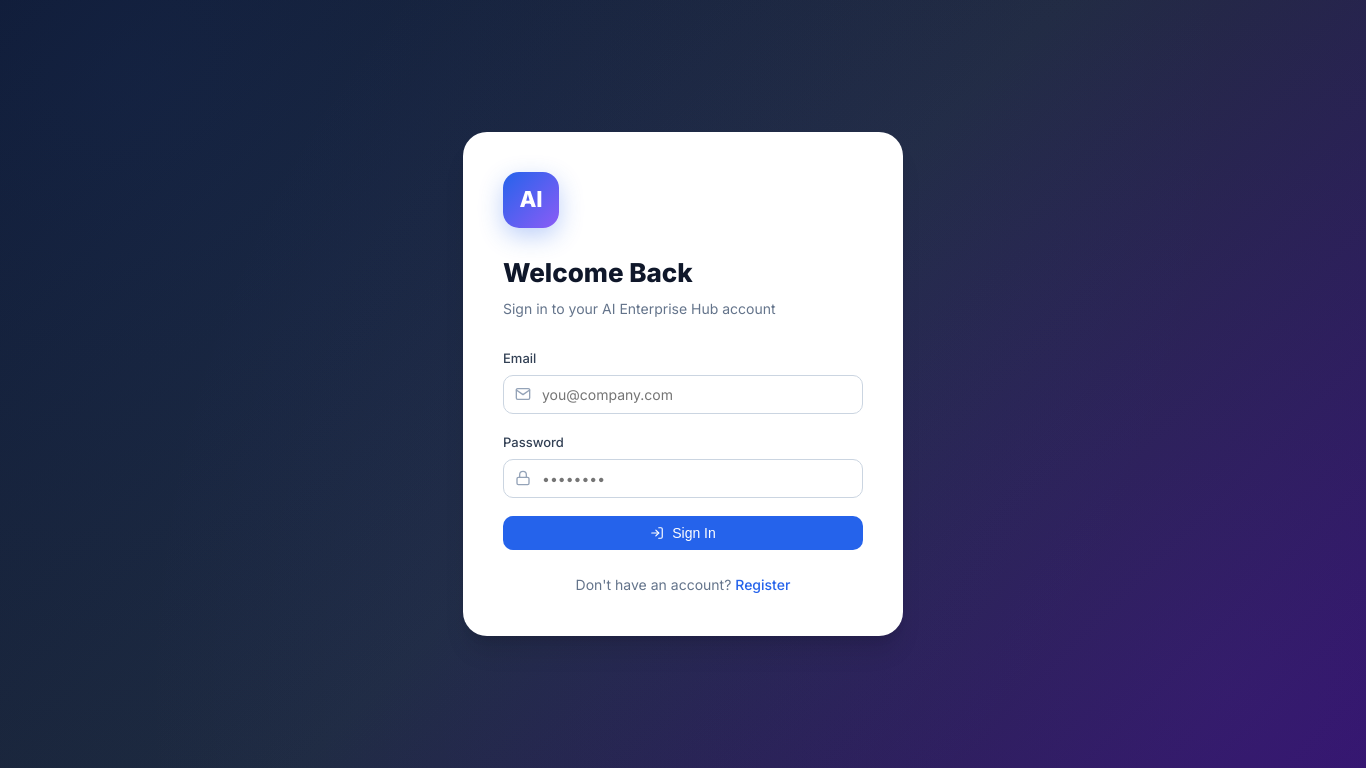
Test case: Authentication › should show validation errors for empty form
The width and height of the screenshot is (1366, 768).
Click the button "Sign In" at (683, 533), box [503,516,863,550]
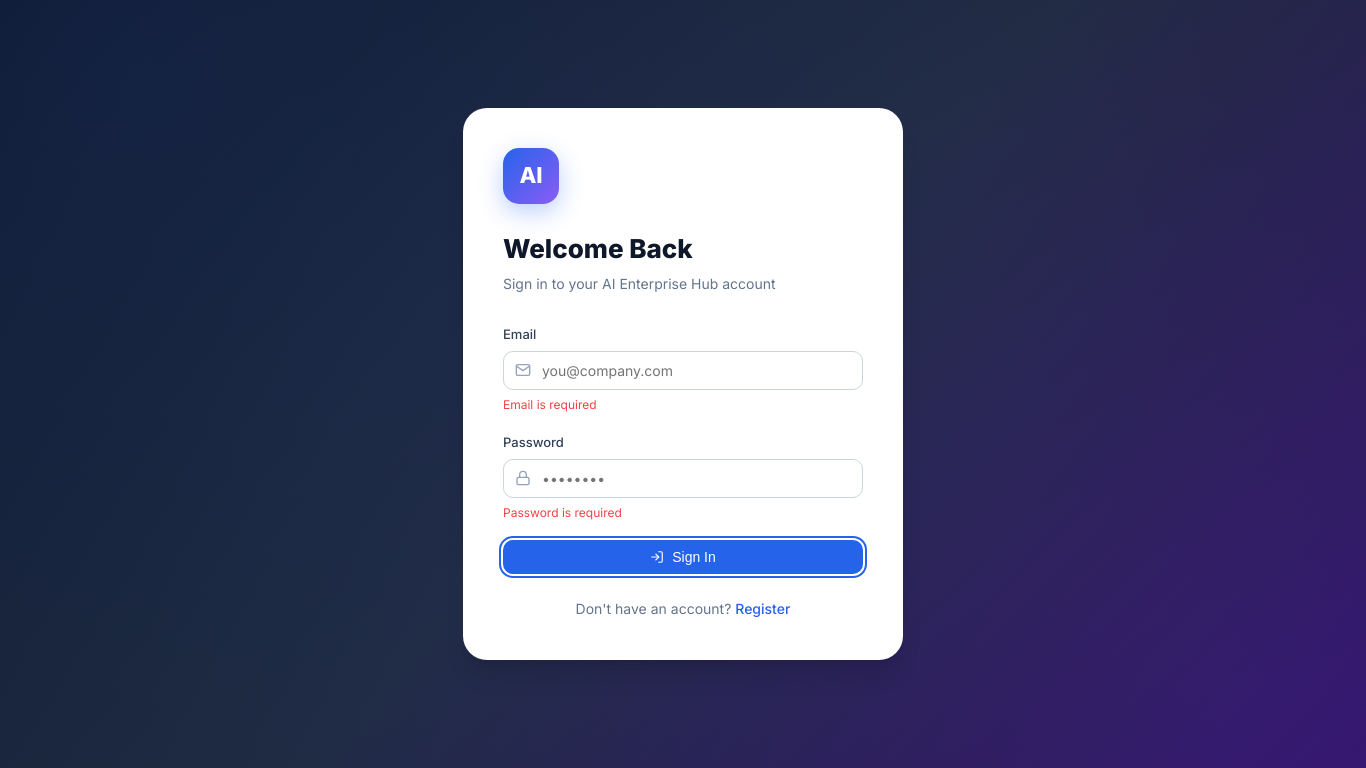
Expected: the text "Email is required" is shown, [503,397,597,412]
Expected: the text "Password is required" is shown, [503,505,622,520]
